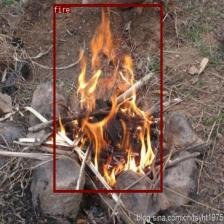fire: (53, 3, 162, 192)
